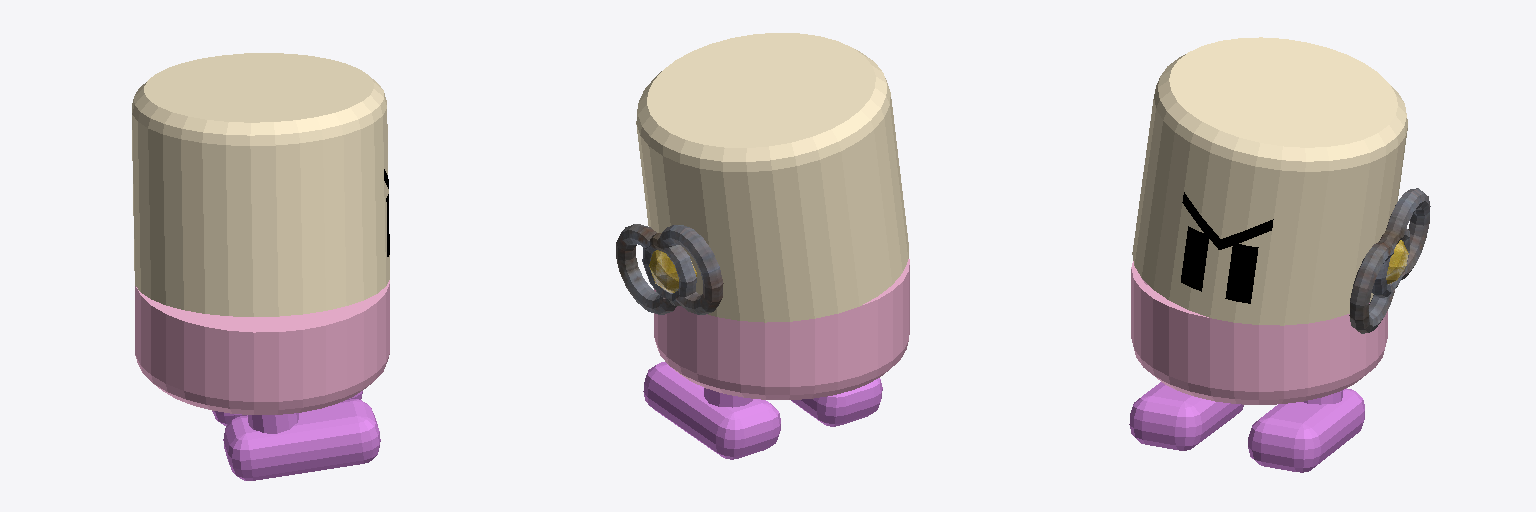
The picture shows the model from 3 angles: view 1: azimuth 30°, elevation 25°; view 2: azimuth 150°, elevation 25°; view 3: azimuth 270°, elevation 25°; orthographic projection.
Parts seen in each view (by area): view 1: Head, Jaw, RightLeg; view 2: Head, Jaw, WindupKey, LeftLeg, RightLeg; view 3: Head, Jaw, LeftLeg, WindupKey, RightLeg.
Boxes of the visible parts, x1,y1,x2,y2 form: Head: [132, 53, 389, 316]; Jaw: [135, 280, 389, 414]; RightLeg: [223, 399, 380, 480]; Head: [636, 33, 908, 322]; Jaw: [654, 259, 909, 399]; WindupKey: [616, 224, 723, 314]; LeftLeg: [643, 362, 780, 459]; RightLeg: [791, 378, 882, 426]; Head: [1132, 37, 1407, 325]; Jaw: [1131, 261, 1387, 404]; LeftLeg: [1248, 388, 1364, 472]; WindupKey: [1349, 188, 1430, 333]; RightLeg: [1129, 382, 1243, 450].
Bounding box in the file's own units: 103 × 154 × 117.
Materials: 6 (2 with a texture image).